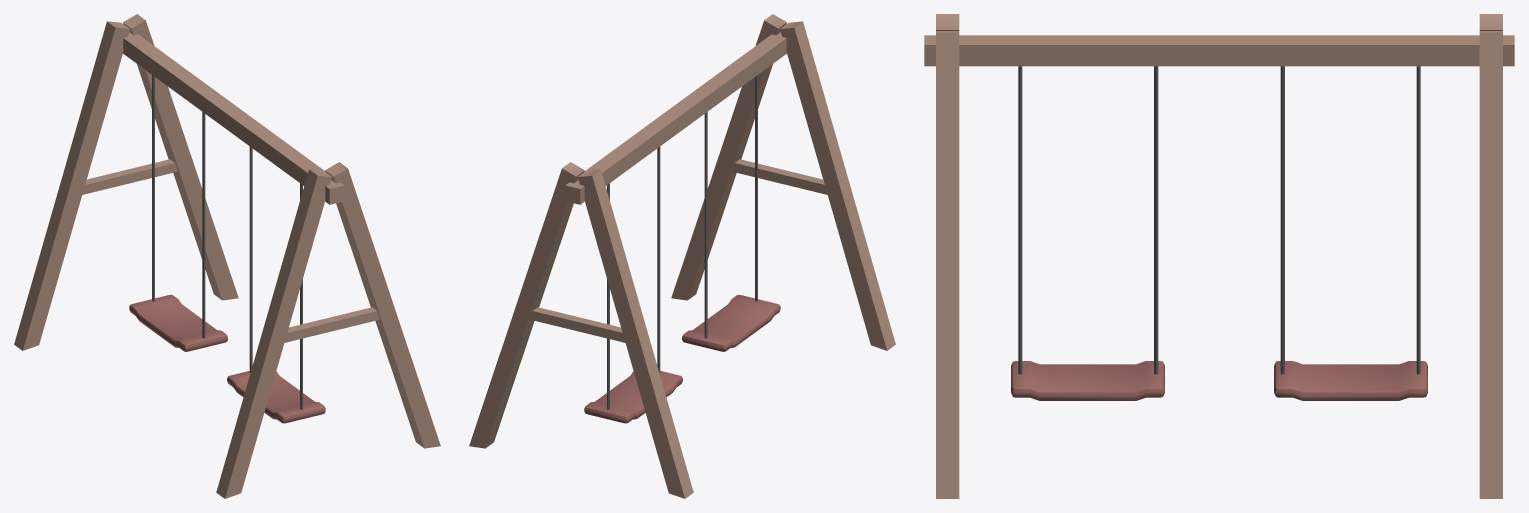
Rendered from play-swings.glb.
The picture shows the model from 3 angles, left to right: view 1: azimuth 30°, elevation 25°; view 2: azimuth 150°, elevation 25°; view 3: azimuth 270°, elevation 25°; orthographic projection. The views are drawn at different scales.
Visible parts, largest first — view 1: lod0; view 2: lod0; view 3: lod0.
Boxes of the visible parts, box(x1,y1,x2,y2) form: lod0: box(14, 14, 440, 498); lod0: box(469, 14, 895, 498); lod0: box(924, 14, 1514, 498).
Size of what is drawn, in the model's own units: 2.27 by 3.02 by 4.
